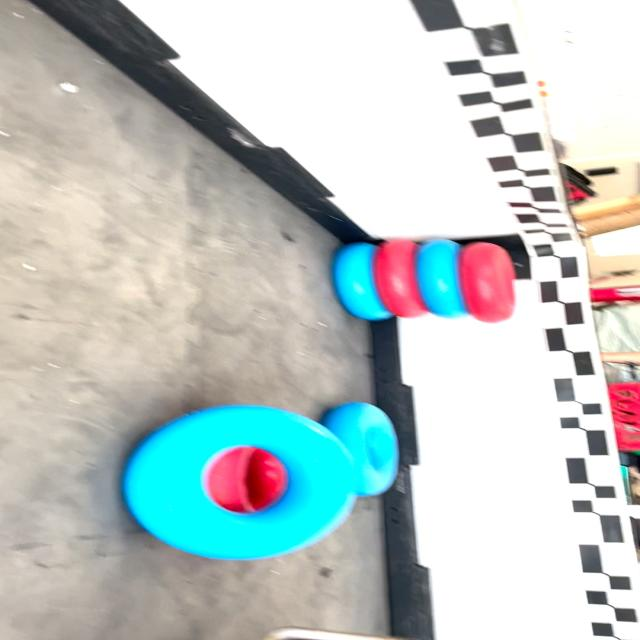Blue-Ring: (121, 406, 354, 561), (320, 402, 398, 496), (333, 242, 393, 321), (416, 239, 469, 319)
Red-Ring: (460, 241, 516, 322), (376, 240, 429, 318)
